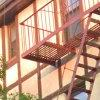stairs: (54, 10, 100, 100)
